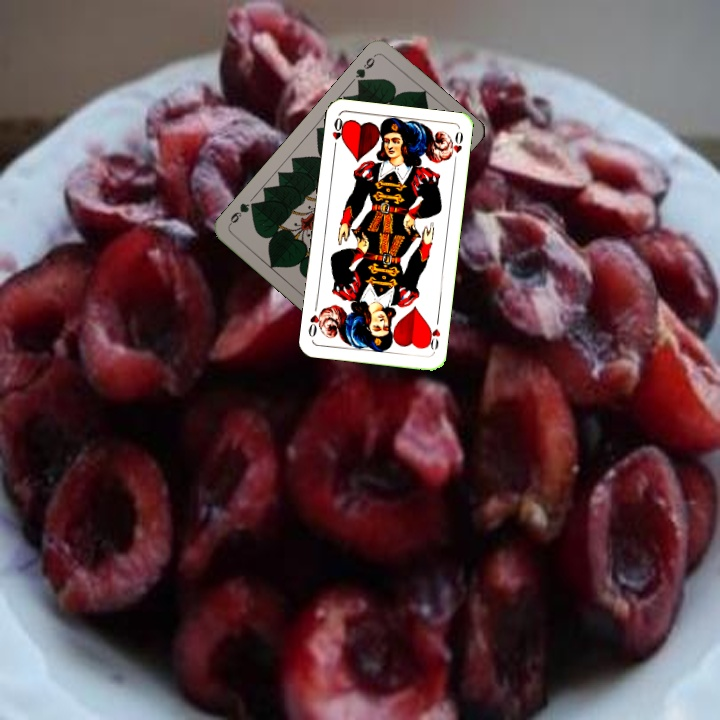G9: (351, 51, 379, 89)
HO: (328, 113, 347, 154), (423, 314, 443, 352)
